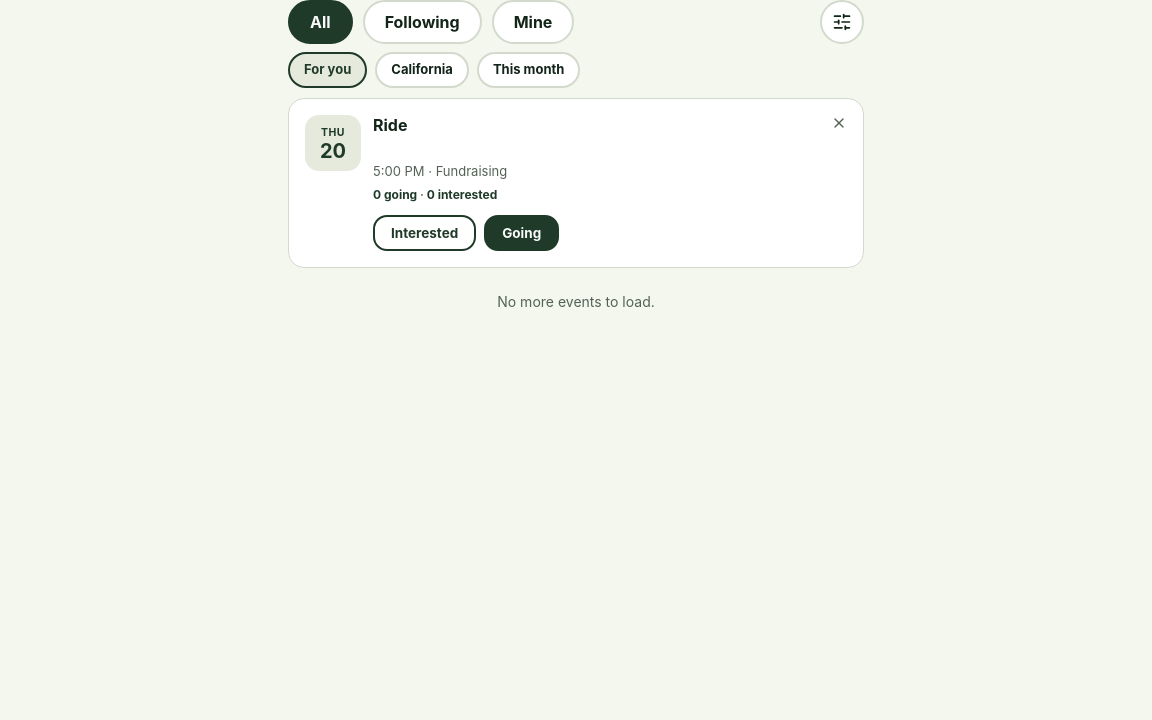
EventsPage › does not repeat one link as both registration and details
Expected: the heading "Ride" is shown, [373,115,408,135]
Click the button "Going": (522,233) [484,215,559,251]
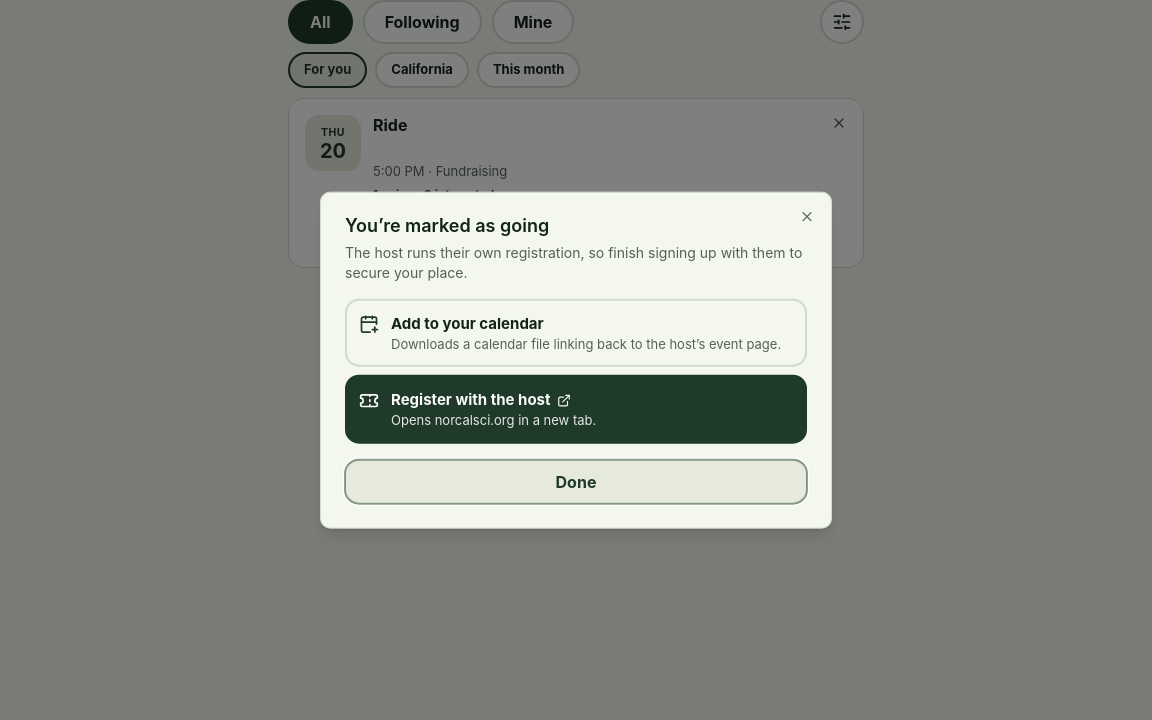
Expected: the link "Register with the host Opens norcalsci.org in a new tab." is shown, [345,375,807,443]
